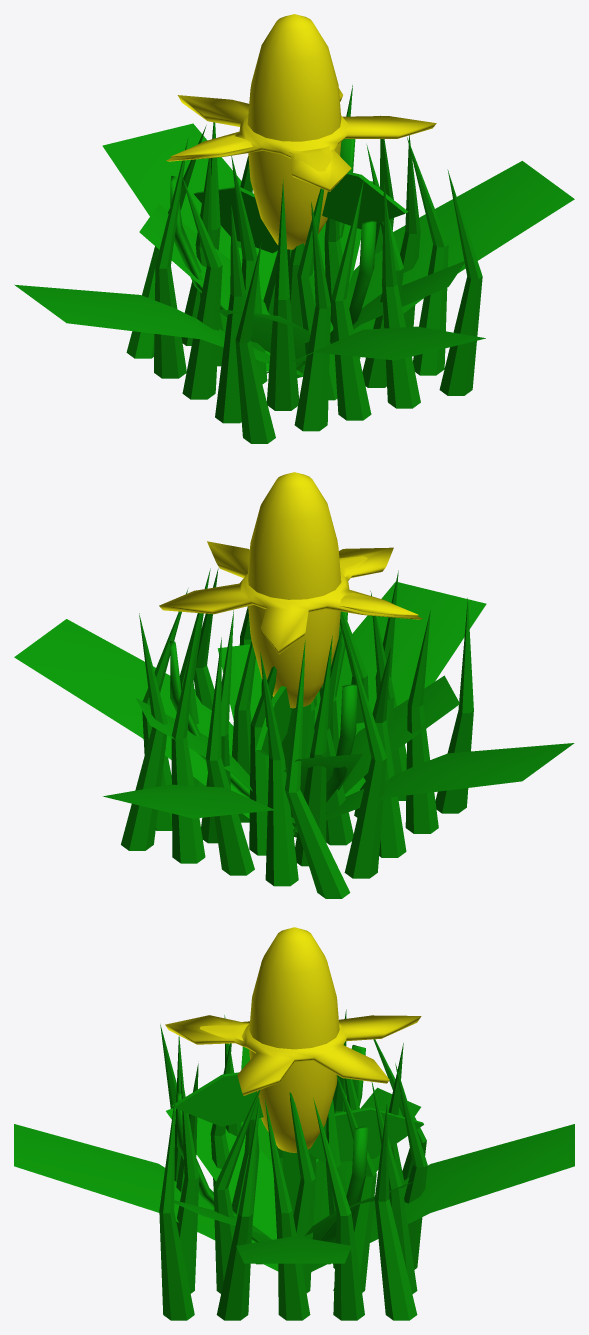
File: Grass,Flowers.fbx
The picture shows the model from 3 angles, top to bottom: view 1: azimuth 30°, elevation 25°; view 2: azimuth 150°, elevation 25°; view 3: azimuth 270°, elevation 25°; orthographic projection. The views are drawn at different scales.
Parts seen in each view (by area): view 1: Grass, MyFavouriteFlower, WeirdFlower; view 2: MyFavouriteFlower, Grass, WeirdFlower; view 3: MyFavouriteFlower, Grass, WeirdFlower.
Part boxes in pixels (x1,y1,x2,y2): Grass: [126, 85, 482, 443]; MyFavouriteFlower: [14, 14, 574, 377]; WeirdFlower: [166, 88, 436, 362]; MyFavouriteFlower: [14, 472, 574, 837]; Grass: [121, 568, 473, 898]; WeirdFlower: [159, 541, 422, 802]; MyFavouriteFlower: [14, 927, 574, 1271]; Grass: [159, 1009, 427, 1320]; WeirdFlower: [165, 1015, 423, 1242].
Bounding box in the file's own units: 175 × 118 × 175.
